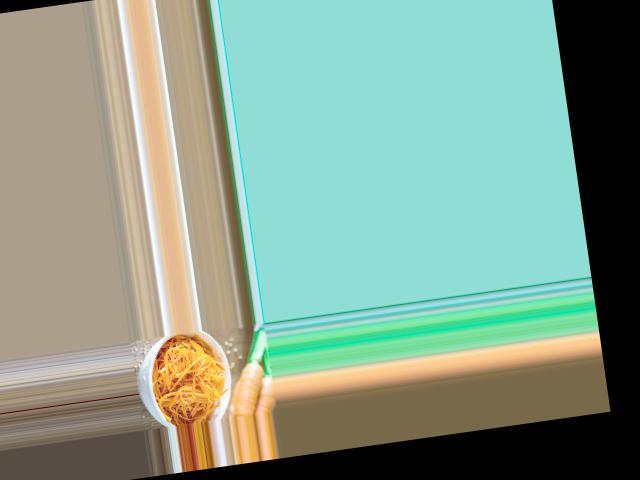carrot: (229, 358, 267, 416)
